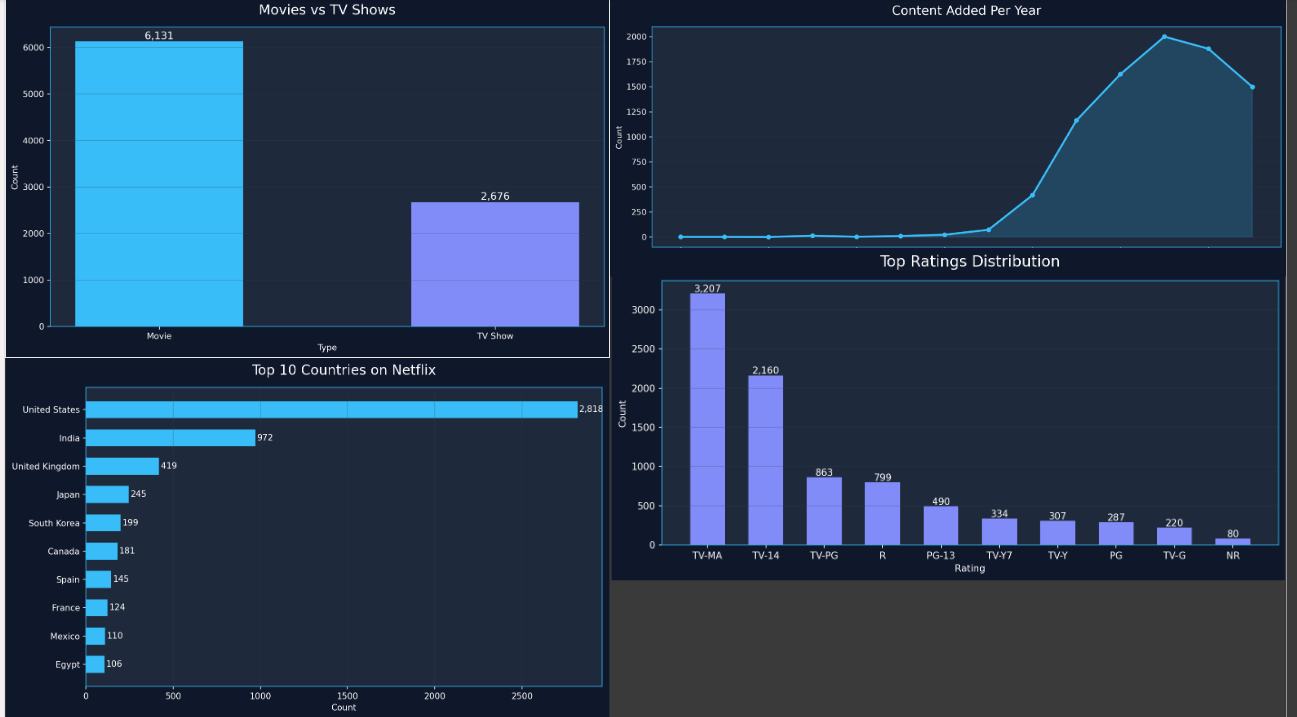

The page's visual inventory and layout, read from the dashboard file:
{"tool":"powerbi","page":{"name":"Python Analysis","canvas":[1280,720],"ordinal":1},"visuals":[{"type":"image","box":[0,0,605,360],"z":0},{"type":"image","box":[0,360,605,360],"z":1},{"type":"image","box":[604.5,0,675.7,279.8],"z":2},{"type":"image","box":[604.5,249.8,675.7,332.2],"z":3}]}

Visuals, with their boxes in screenshot pixels (x1, y1, x2, y2), scaled from the page's 1280x720 canvas onto the 1297x717 screenshot:
image: region(0, 0, 613, 358)
image: region(0, 358, 613, 716)
image: region(613, 0, 1296, 279)
image: region(613, 249, 1296, 580)
